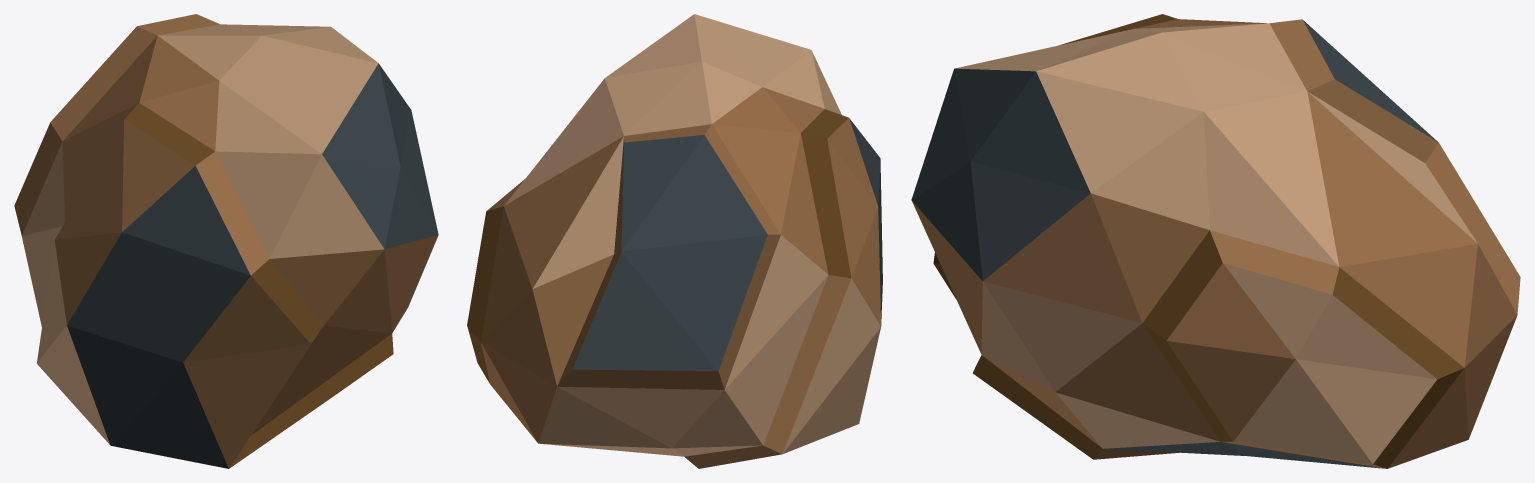
The model's file is Asteroid.fbx.
3 renders of one model, left to right at view 1: azimuth 30°, elevation 25°; view 2: azimuth 150°, elevation 25°; view 3: azimuth 270°, elevation 25°, orthographic. The views are drawn at different scales.
Visible parts, largest first — view 1: Asteroid; view 2: Asteroid; view 3: Asteroid.
Boxes of the visible parts, x1=… form: Asteroid: x1=14, y1=14, x2=438, y2=468; Asteroid: x1=467, y1=14, x2=882, y2=468; Asteroid: x1=911, y1=14, x2=1520, y2=468.
Size of the model in its own units: 884 by 906 by 1126.
